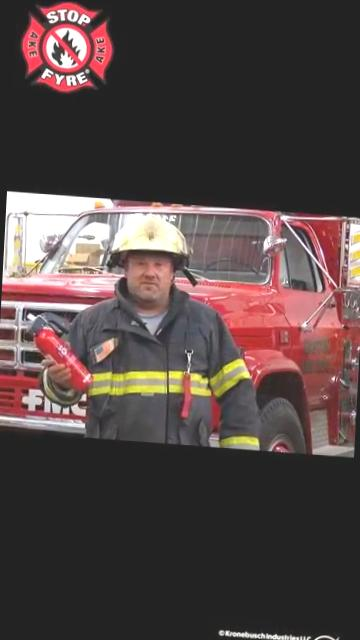FireExtinguisher: (20, 308, 100, 391)
not: (97, 191, 360, 449), (1, 255, 92, 306), (0, 375, 38, 427)
